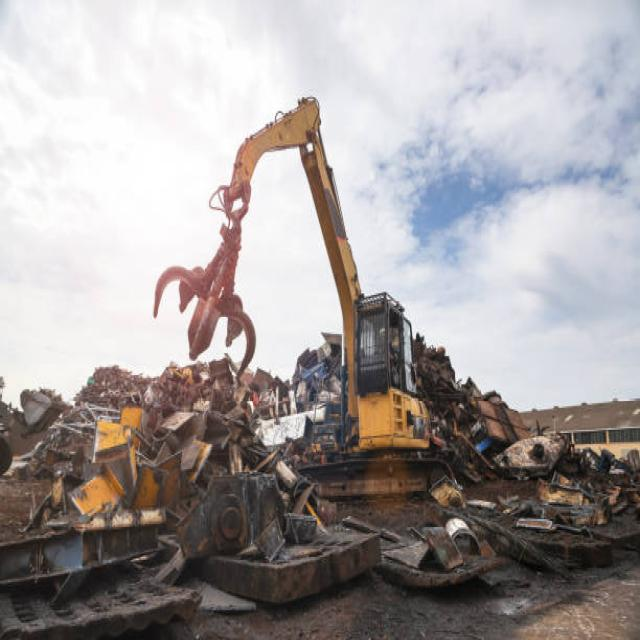metal: (188, 478, 482, 584), (76, 408, 262, 477)
